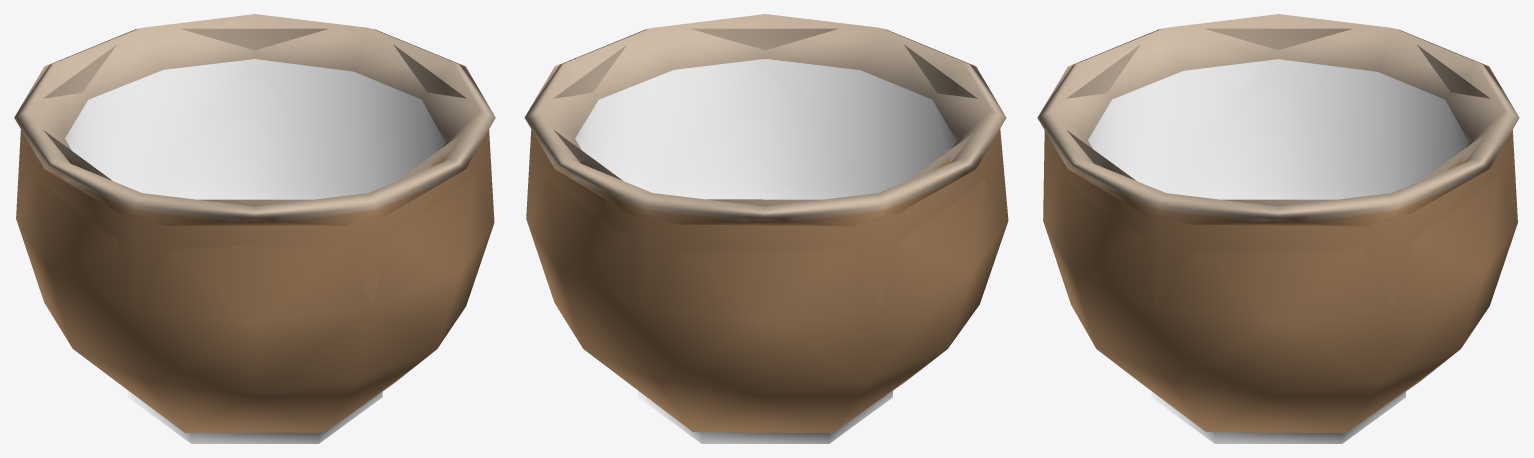
Rendered from objects_un_dlc1_t10bowl01_01.gltf.
3 views of the same model, side by side, from view 1: azimuth 30°, elevation 25°; view 2: azimuth 150°, elevation 25°; view 3: azimuth 270°, elevation 25° (orthographic).
Parts seen in each view (by area): view 1: um_objects_un_dlc1_t10bowl01_model_lod0Shape:objects_un_dlc1 (×2), um_objects_un_dlc1_t10bowl01_model_lod1Shape:objects_un_dlc1; view 2: um_objects_un_dlc1_t10bowl01_model_lod0Shape:objects_un_dlc1 (×2), um_objects_un_dlc1_t10bowl01_model_lod1Shape:objects_un_dlc1; view 3: um_objects_un_dlc1_t10bowl01_model_lod0Shape:objects_un_dlc1 (×2), um_objects_un_dlc1_t10bowl01_model_lod1Shape:objects_un_dlc1.
Boxes of the visible parts, box(x1,y1,x2,y2) form: um_objects_un_dlc1_t10bowl01_model_lod0Shape:objects_un_dlc1 (×2): box(14, 14, 495, 443); um_objects_un_dlc1_t10bowl01_model_lod1Shape:objects_un_dlc1: box(16, 28, 494, 308); um_objects_un_dlc1_t10bowl01_model_lod0Shape:objects_un_dlc1 (×2): box(524, 14, 1008, 443); um_objects_un_dlc1_t10bowl01_model_lod1Shape:objects_un_dlc1: box(526, 28, 1008, 308); um_objects_un_dlc1_t10bowl01_model_lod0Shape:objects_un_dlc1 (×2): box(1037, 14, 1519, 443); um_objects_un_dlc1_t10bowl01_model_lod1Shape:objects_un_dlc1: box(1043, 28, 1517, 308).
Size of what is drawn, in the model's own units: 0.3338 by 0.2174 by 0.331.
Materials: 2 (1 with a texture image).
